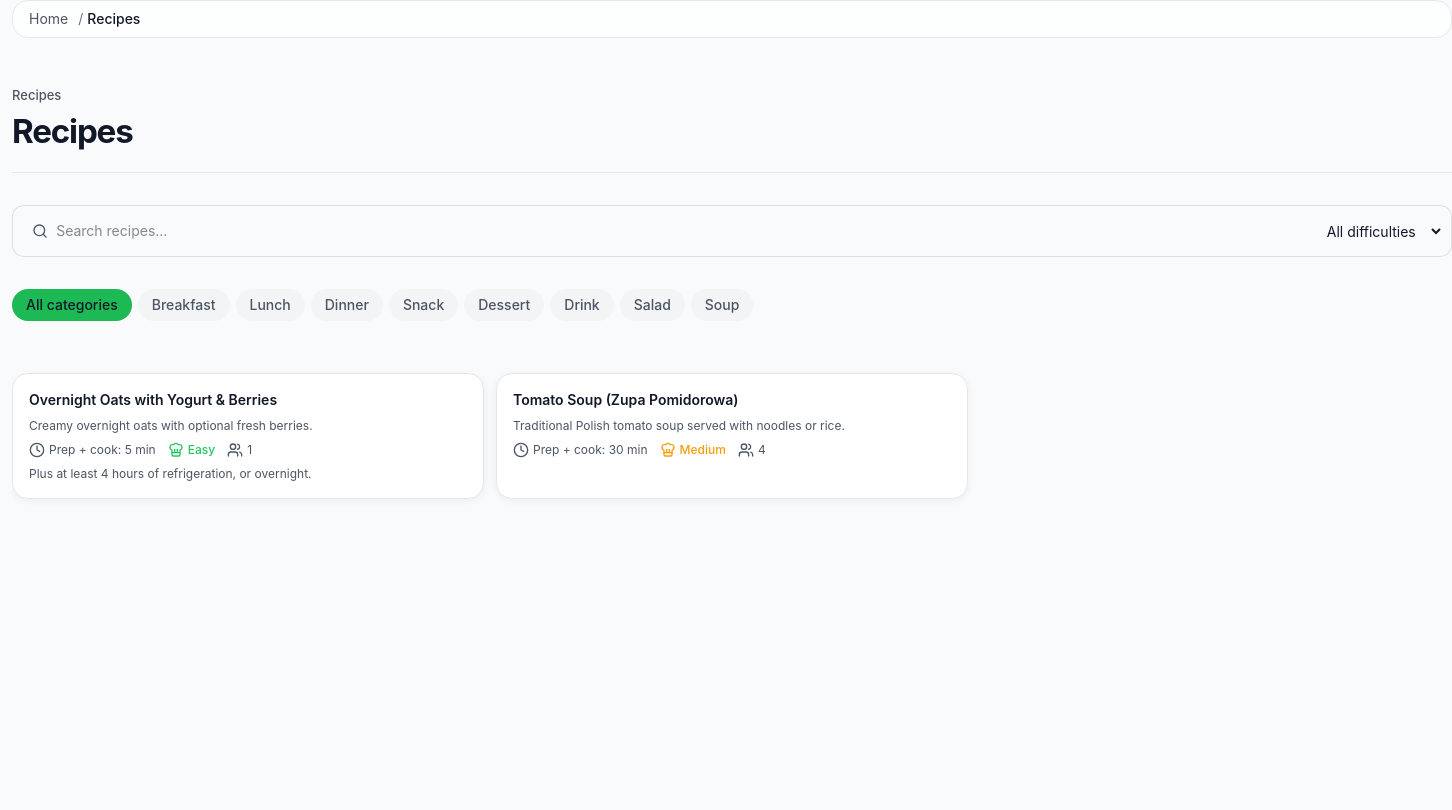
Test: RecipesBrowsePage › shows empty state when search matches nothing
Expected: the heading "Overnight Oats with Yogurt & Berries" is shown, [29,391,277,408]
Type "xyznonexistent" into the search field with placeholder "Search recipes…". click: [661, 231]
box: [20,213,1301,249]
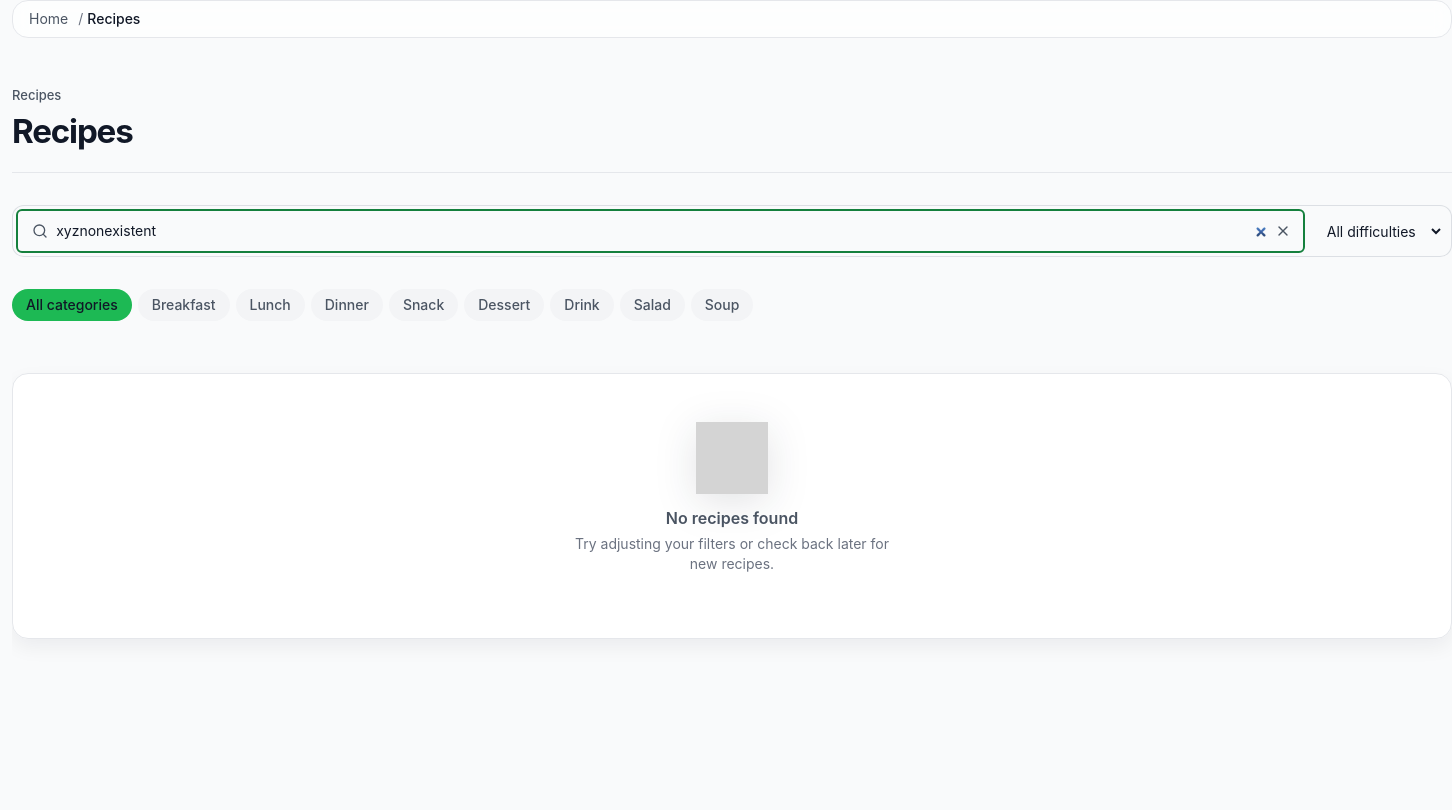
Result: the heading "No recipes found" is shown at [666,506,798,530]
